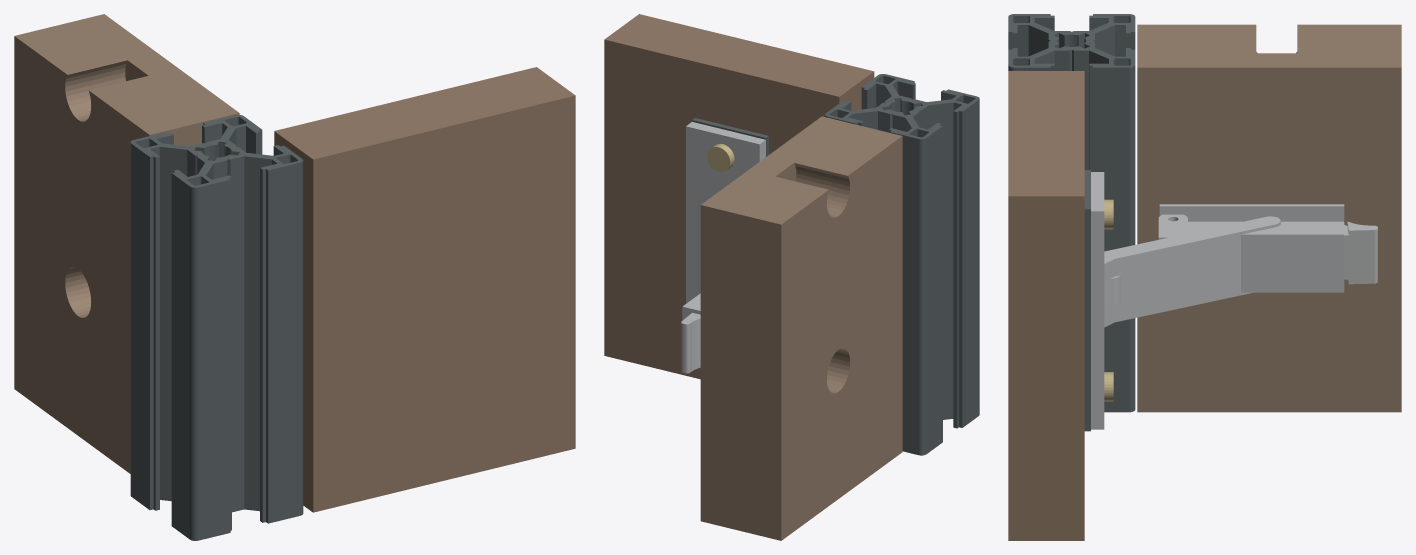
File: candidate-24mm-hinge.glb
3 renders of one model, left to right at view 1: azimuth 30°, elevation 25°; view 2: azimuth 150°, elevation 25°; view 3: azimuth 270°, elevation 25°, orthographic. The views are drawn at different scales.
Visible parts, largest first — view 1: Left-door-face-18, Post-4-23, Left-pegboard-24; view 2: Left-pegboard-24, Left-door-face-18, Post-4-23, Blum-1-cup-envelope, Blum-1-factory-clip, Blum-1-cup-screw-915.5; view 3: Left-pegboard-24, Left-door-face-18, Post-4-23, Blum-1-housing-envelope, Blum-1-factory-clip, Blum-1-cup-envelope, Blum-1-plate-envelope, Blum-1-70T3507.21-envelope.
Boxes of the visible parts, x1,y1,x2,y2 form: Left-door-face-18: [274, 67, 575, 512]; Post-4-23: [130, 115, 303, 540]; Left-pegboard-24: [14, 14, 239, 473]; Left-pegboard-24: [700, 116, 902, 540]; Left-door-face-18: [604, 14, 874, 379]; Post-4-23: [825, 74, 979, 455]; Blum-1-cup-envelope: [686, 122, 765, 303]; Blum-1-factory-clip: [681, 293, 700, 373]; Blum-1-cup-screw-915.5: [707, 144, 734, 171]; Left-pegboard-24: [1137, 24, 1401, 412]; Left-door-face-18: [1008, 71, 1084, 540]; Post-4-23: [1008, 14, 1135, 412]; Blum-1-housing-envelope: [1104, 216, 1280, 327]; Blum-1-factory-clip: [1158, 214, 1377, 292]; Blum-1-cup-envelope: [1091, 172, 1104, 429]; Blum-1-plate-envelope: [1159, 204, 1344, 221]; Blum-1-70T3507.21-envelope: [1084, 170, 1090, 431].
Size of the model in its own units: 0.102 by 0.09 by 0.093.
